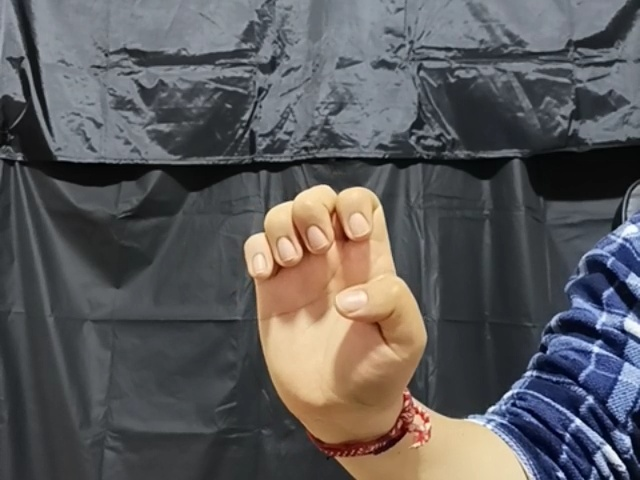E: (241, 178, 429, 417)
